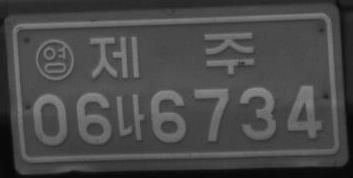0: (31, 92, 68, 148)
3: (239, 85, 277, 142)
4: (286, 84, 323, 140)
6: (149, 88, 187, 145), (75, 90, 112, 147)
7: (193, 86, 230, 143)
나: (114, 93, 147, 141)
영: (35, 38, 76, 81)
제주_D: (85, 31, 256, 78)
